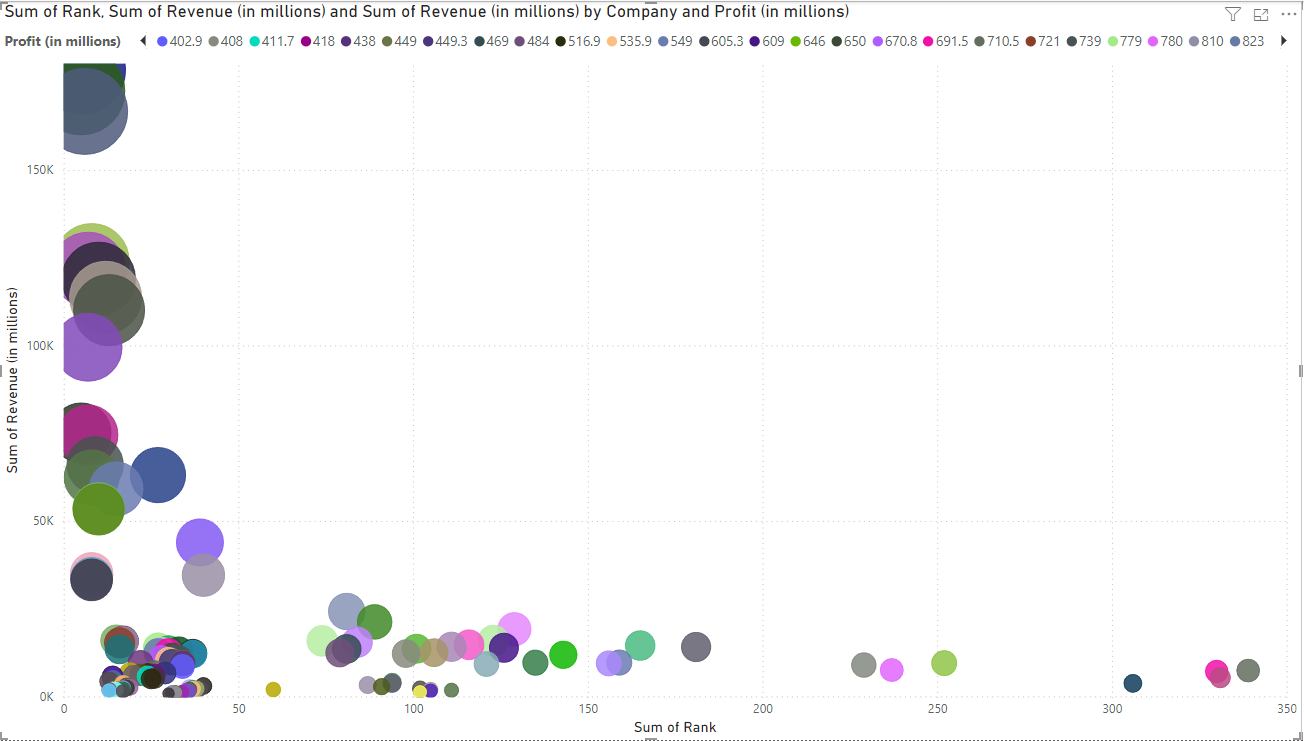

What the dashboard file says about the page in this screenshot:
{"tool":"powerbi","page":{"name":"Page 1","canvas":[1280,720],"ordinal":0},"visuals":[{"type":"scatterChart","fields":{"Size":["Sum(fortune500.Revenue (in millions))"],"X":["Sum(fortune500.Rank)"],"Y":["Sum(fortune500.Revenue (in millions))"],"Series":["fortune500.Profit (in millions)"],"Category":["fortune500.Company"]},"box":[0,0,1269.3,720.7],"z":0}]}

Visuals, with their boxes in screenshot pixels (x1, y1, x2, y2):
scatterChart - Sum(fortune500.Revenue (in millions)) x Sum(fortune500.Rank): bbox=[61, 34, 1291, 732]
